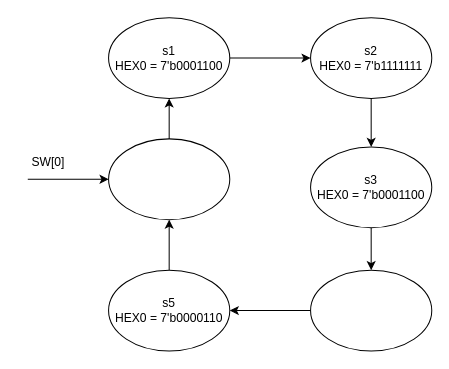
The diagram is 449 pixels wide and 369 high, and some of its shapes have lost their labels. Here are the shapes that lost their labels. From the top down, the box of each, then its label:
(108, 138, 230, 220): s0 HEX0 = 7'b0001000
(310, 269, 432, 351): s4 HEX0 = 7'b1000111
